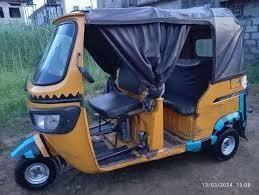keke: (6, 4, 248, 191)
